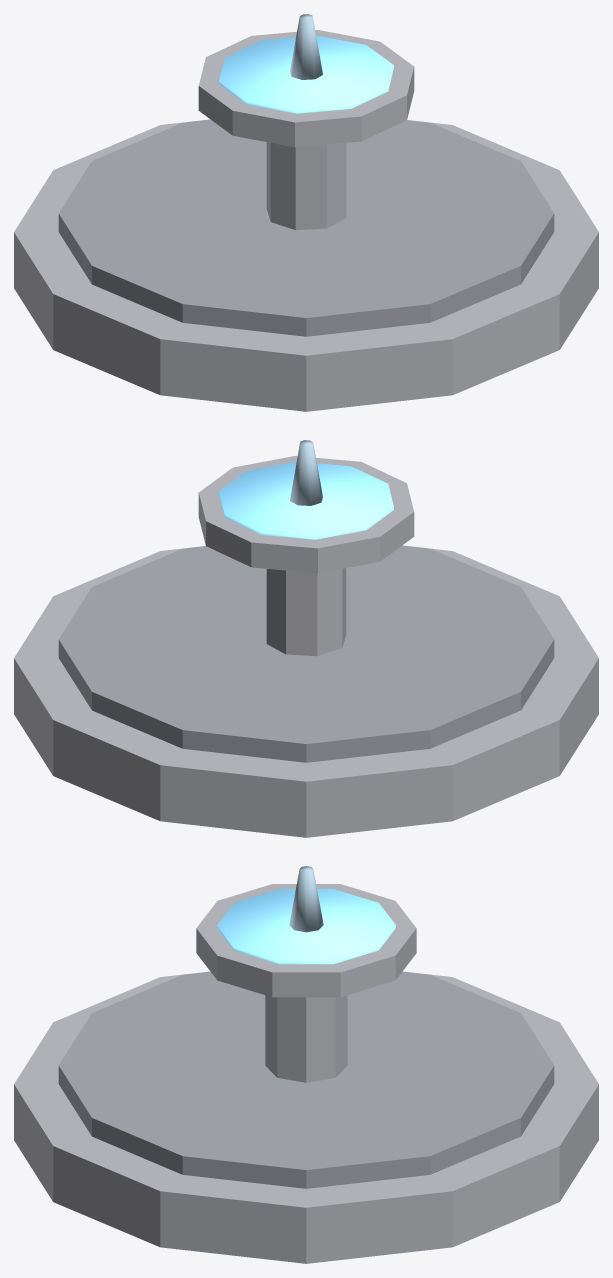
The model's file is SM_fountain.glb.
3 views of the same model, one above another, from view 1: azimuth 30°, elevation 25°; view 2: azimuth 150°, elevation 25°; view 3: azimuth 270°, elevation 25° (orthographic).
Parts seen in each view (by area): view 1: SM_fountain; view 2: SM_fountain; view 3: SM_fountain.
Boxes of the visible parts, <box> form: SM_fountain: <box>14,14,598,411</box>; SM_fountain: <box>14,440,598,837</box>; SM_fountain: <box>14,866,598,1263</box>.
Bounding box in the file's own units: 1.7 × 0.87 × 1.7.
